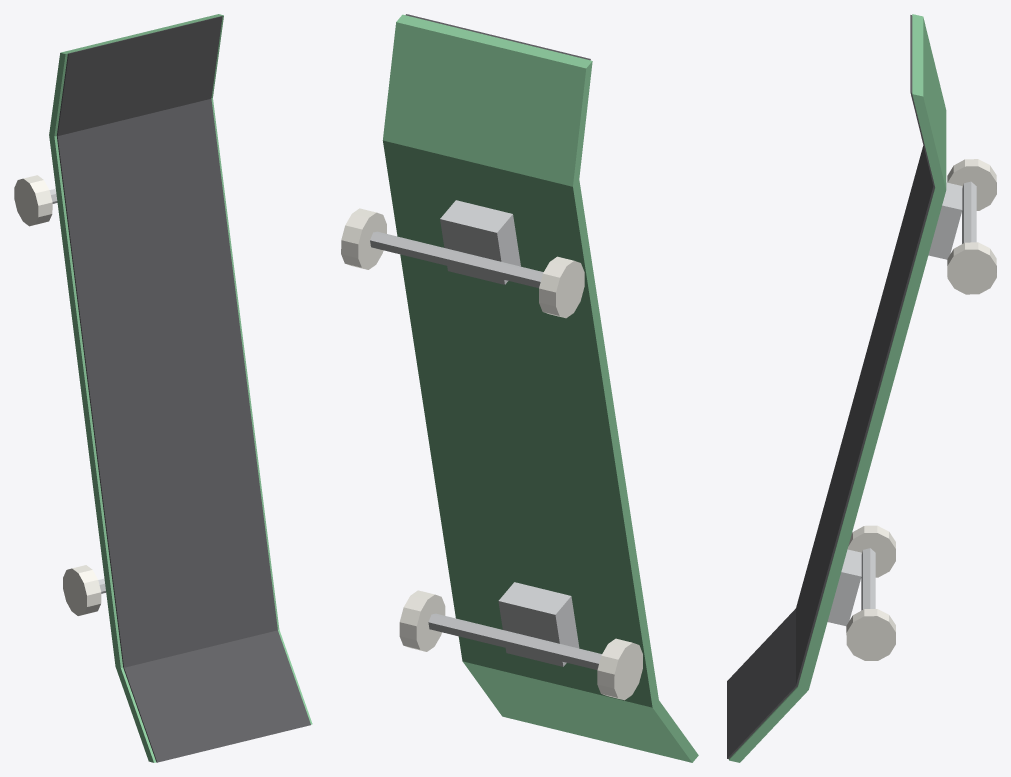
Rendered from skate_lean_g.glb.
3 renders of one model, left to right at view 1: azimuth 30°, elevation 25°; view 2: azimuth 150°, elevation 25°; view 3: azimuth 270°, elevation 25°, orthographic. The views are drawn at different scales.
Parts seen in each view (by area): view 1: skate_lean_g_grip, skate_lean_g_paint_g, skate_lean_g_wheel_w; view 2: skate_lean_g_paint_g, skate_lean_g_metal, skate_lean_g_wheel_w; view 3: skate_lean_g_grip, skate_lean_g_paint_g, skate_lean_g_wheel_w, skate_lean_g_metal.
Boxes of the visible parts, x1,y1,x2,y2 form: skate_lean_g_grip: (57, 16, 310, 762); skate_lean_g_paint_g: (49, 14, 312, 762); skate_lean_g_wheel_w: (14, 175, 101, 615); skate_lean_g_paint_g: (382, 14, 698, 762); skate_lean_g_metal: (370, 200, 601, 669); skate_lean_g_wheel_w: (341, 208, 642, 700); skate_lean_g_grip: (727, 15, 934, 759); skate_lean_g_paint_g: (729, 14, 946, 762); skate_lean_g_wheel_w: (846, 159, 996, 660); skate_lean_g_metal: (827, 181, 976, 625).
Bounding box in the file's own units: 0.226 × 0.7796 × 0.2849.
